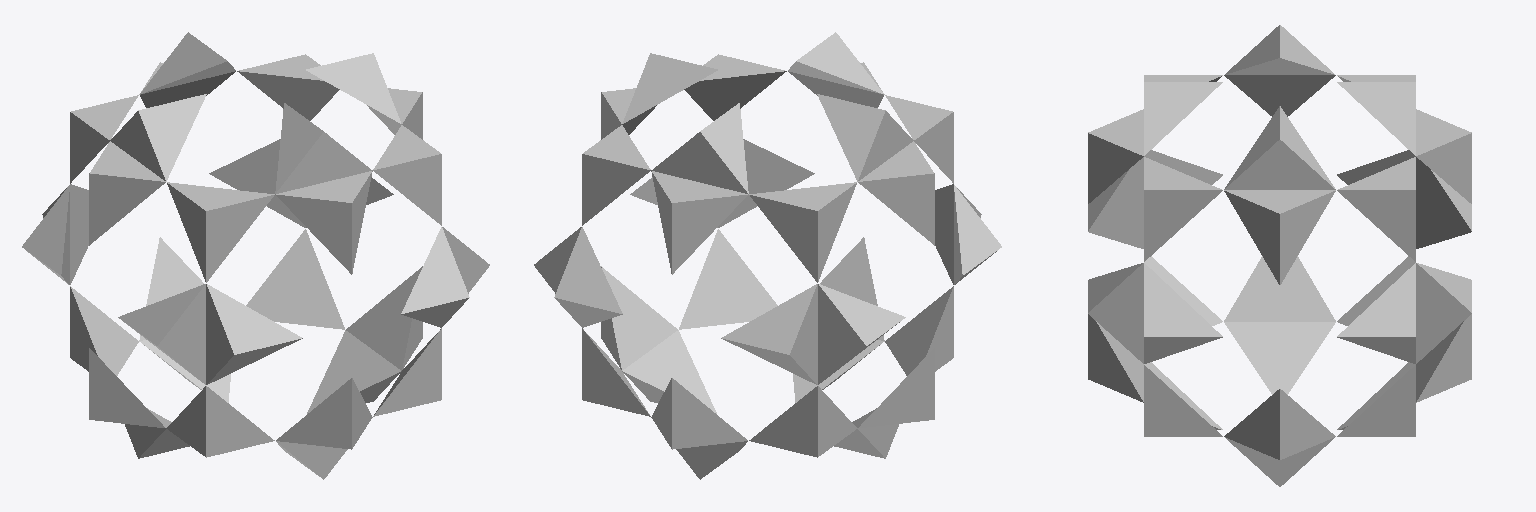
File: XCube.obj
3 renders of one model, left to right at view 1: azimuth 30°, elevation 25°; view 2: azimuth 150°, elevation 25°; view 3: azimuth 270°, elevation 25°, orthographic.
Parts seen in each view (by area): view 1: Cube.002_Cube.003, Cube.003_Cube.004, Cube.001_Cube.002, Cube; view 2: Cube.002_Cube.003, Cube.003_Cube.004, Cube.001_Cube.002, Cube; view 3: Cube.001_Cube.002, Cube.003_Cube.004, Cube.002_Cube.003, Cube.
Boxes of the visible parts, <box> form: Cube.002_Cube.003: <box>70,54,441,457</box>; Cube.003_Cube.004: <box>42,53,469,458</box>; Cube.001_Cube.002: <box>89,62,422,449</box>; Cube: <box>22,32,489,479</box>; Cube.002_Cube.003: <box>582,54,953,457</box>; Cube.003_Cube.004: <box>554,53,981,458</box>; Cube.001_Cube.002: <box>601,62,934,449</box>; Cube: <box>534,32,1001,479</box>; Cube.001_Cube.002: <box>1088,75,1471,459</box>; Cube.003_Cube.004: <box>1088,25,1471,486</box>; Cube.002_Cube.003: <box>1144,75,1415,436</box>; Cube: <box>1144,82,1415,429</box>.
Size of the model in its own units: 1.98 by 1.98 by 1.98.